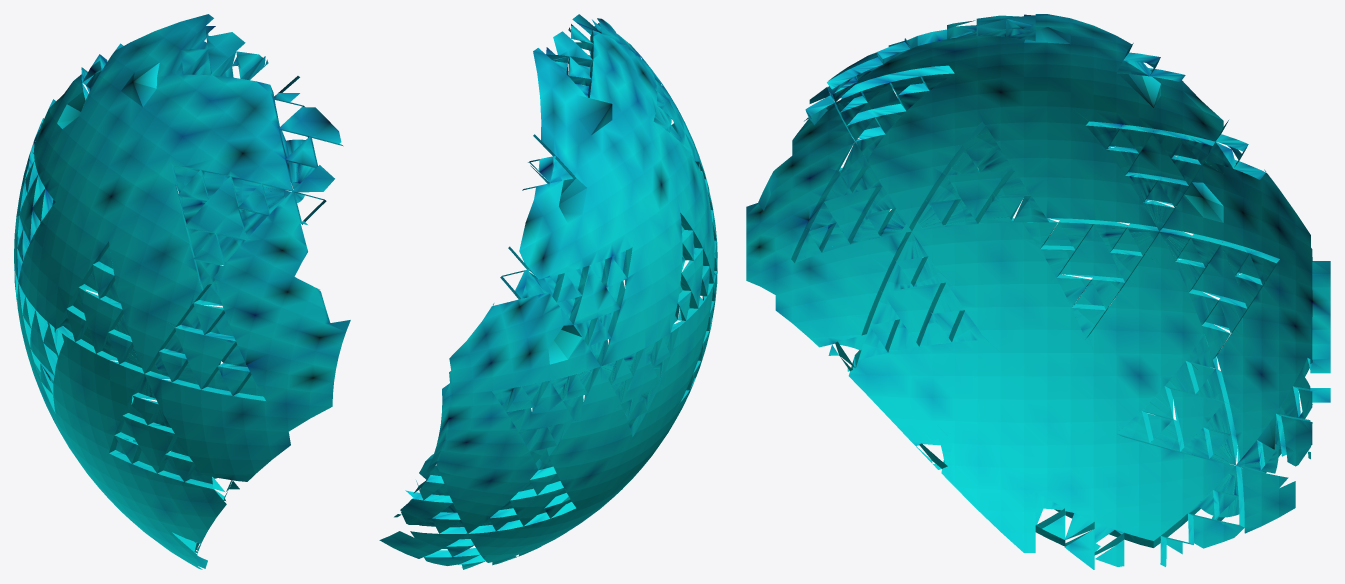
The picture shows the model from 3 angles, left to right: view 1: azimuth 30°, elevation 25°; view 2: azimuth 150°, elevation 25°; view 3: azimuth 270°, elevation 25°; orthographic projection. The views are drawn at different scales.
Size of the model in its own units: 0.3171 by 0.8293 by 0.7914.
